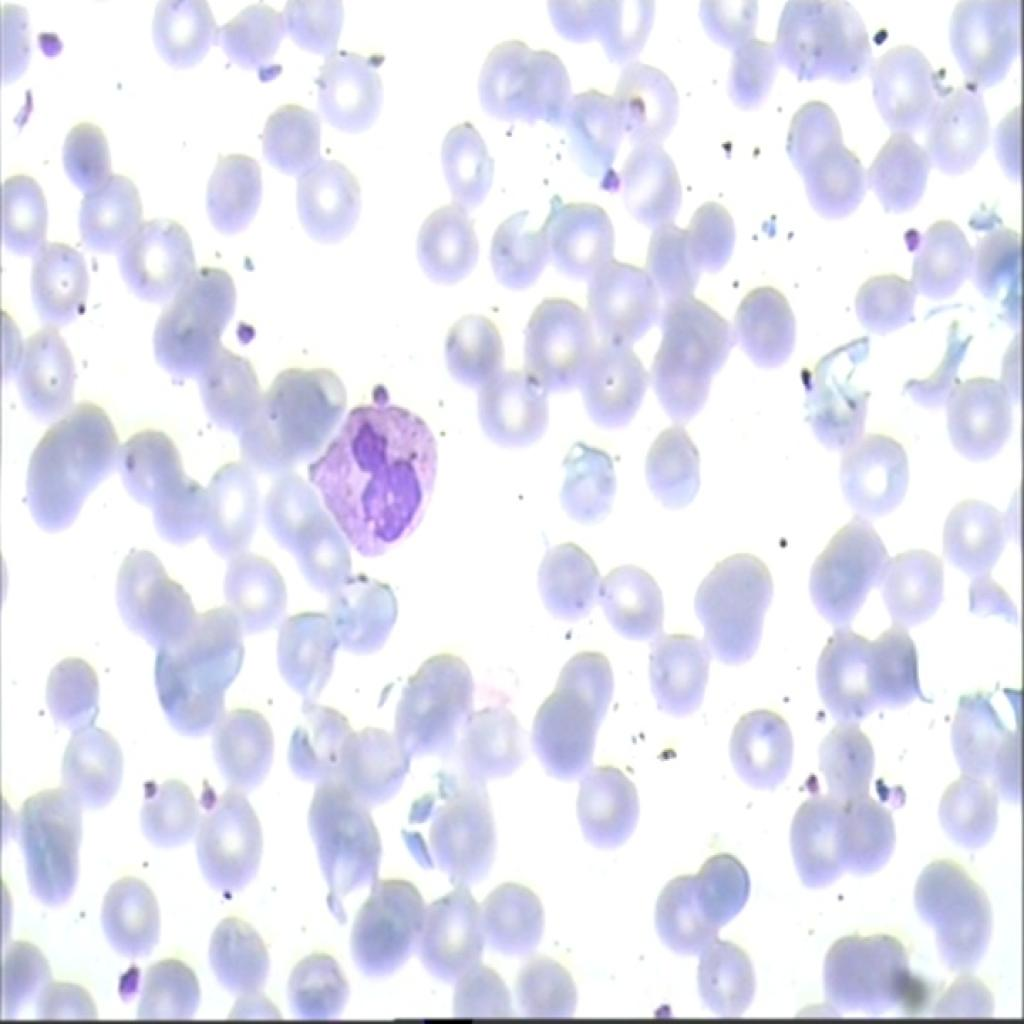Neutrofil: (303, 393, 444, 560)
Platelet: (575, 144, 627, 208), (218, 308, 263, 372), (108, 960, 149, 1010), (893, 206, 923, 263), (37, 20, 77, 62), (798, 761, 826, 811), (142, 750, 165, 807), (252, 57, 284, 96), (878, 764, 900, 809), (361, 371, 387, 409), (195, 777, 216, 812), (614, 89, 640, 117)
